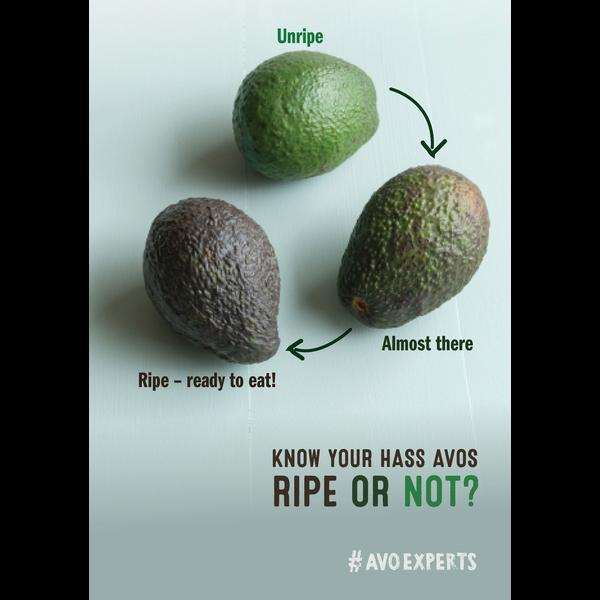almost: (335, 165, 490, 329)
ripe: (142, 197, 281, 365)
unripe: (231, 48, 380, 181)
